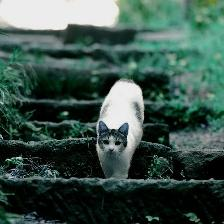kedo: (97, 78, 144, 178)
